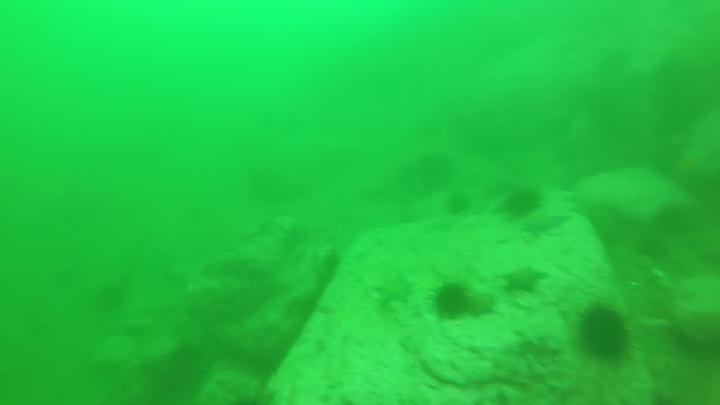echinus: (575, 303, 634, 365), (430, 280, 474, 322), (654, 202, 694, 238), (501, 186, 543, 220), (93, 280, 130, 314), (442, 190, 473, 218), (318, 248, 344, 277)
starfish: (518, 209, 571, 240), (372, 272, 417, 308), (500, 263, 548, 296), (463, 289, 498, 320)
